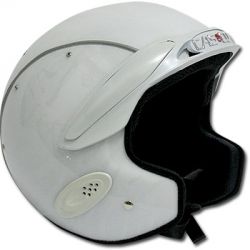helmet: (2, 6, 248, 231)
